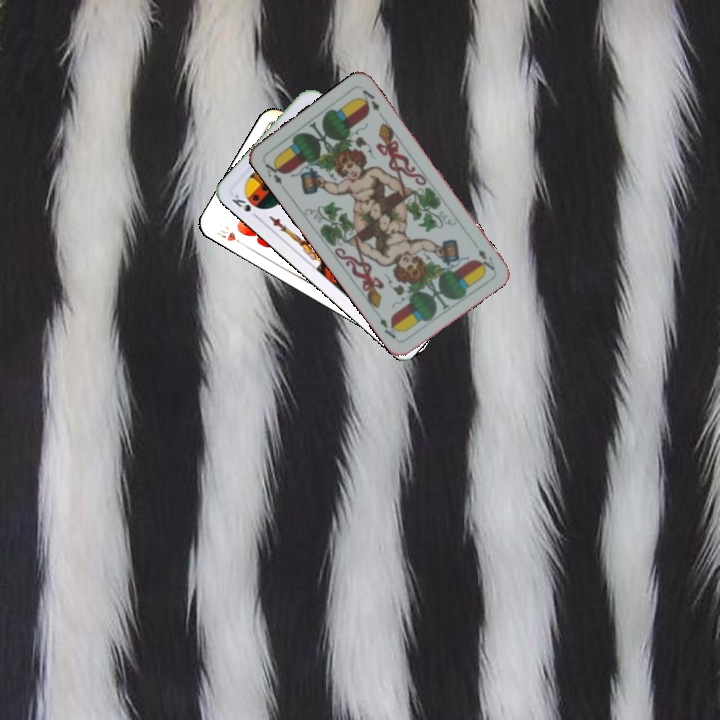EA: (469, 237, 497, 273), (261, 157, 286, 193)
H10: (212, 220, 248, 249)
SK: (228, 190, 262, 222)
